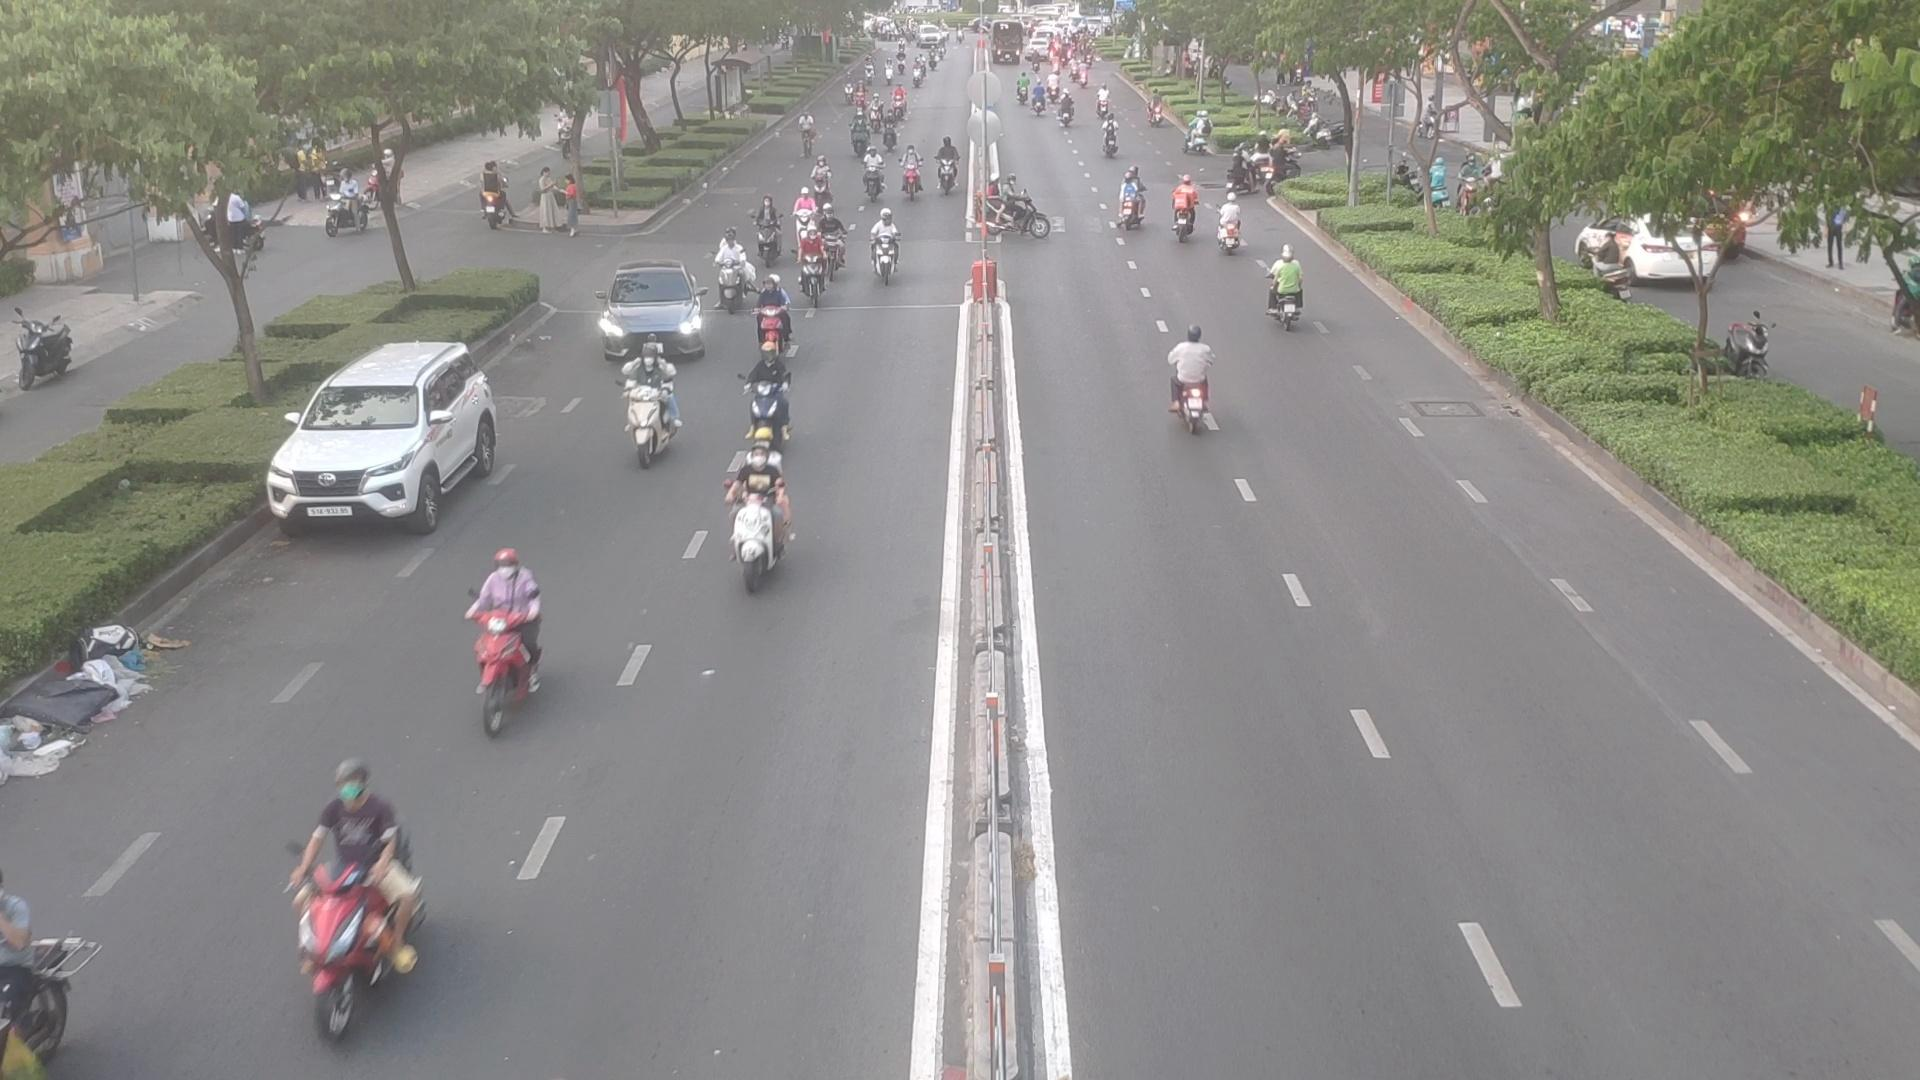car: (269, 342, 514, 531), (597, 261, 709, 357)
motorbike: (265, 769, 429, 1034), (448, 547, 553, 725), (0, 872, 91, 1073), (705, 439, 793, 585), (616, 347, 683, 462), (1162, 326, 1222, 429), (982, 175, 1062, 243), (1259, 256, 1315, 334), (749, 276, 796, 353), (712, 243, 756, 313), (866, 219, 905, 284), (808, 216, 849, 273), (756, 198, 785, 265), (1171, 171, 1200, 235), (1218, 203, 1251, 257), (1120, 177, 1151, 229), (802, 255, 833, 303), (934, 133, 957, 194), (791, 189, 814, 244), (902, 142, 923, 200), (861, 146, 880, 200), (814, 157, 832, 208), (851, 109, 870, 154), (882, 108, 899, 152)
